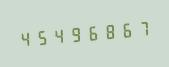eight: (102, 18, 118, 43)
five: (34, 24, 50, 49)
four: (17, 25, 33, 51), (51, 22, 67, 48)
nine: (68, 21, 84, 46)
seven: (136, 15, 152, 41)
six: (85, 19, 101, 45), (119, 17, 135, 42)
